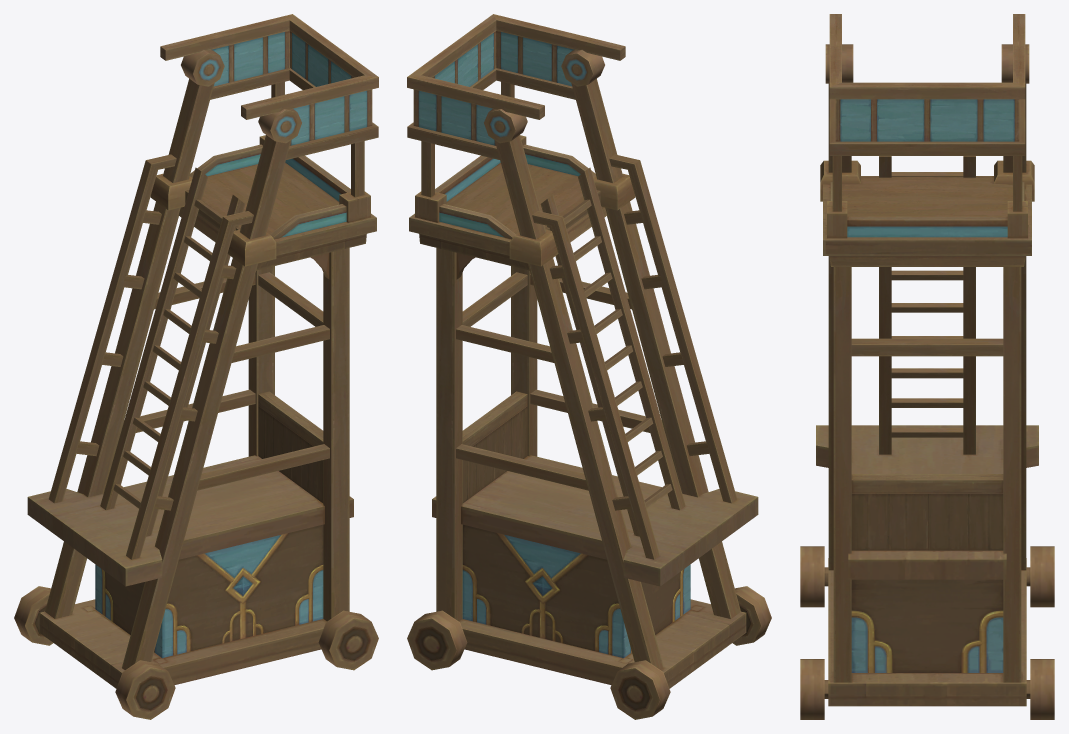
The model's file is Homeworld_Interior_Fd_Decoration_Prop_Tizi_01_Vo.fbx.
3 renders of one model, left to right at view 1: azimuth 30°, elevation 25°; view 2: azimuth 150°, elevation 25°; view 3: azimuth 270°, elevation 25°, orthographic. The views are drawn at different scales.
Parts seen in each view (by area): view 1: Indoor_Fd_Prop_Shelf_A_02_Vo; view 2: Indoor_Fd_Prop_Shelf_A_02_Vo; view 3: Indoor_Fd_Prop_Shelf_A_02_Vo.
Boxes of the visible parts, x1,y1,x2,y2 form: Indoor_Fd_Prop_Shelf_A_02_Vo: (14,14,378,719); Indoor_Fd_Prop_Shelf_A_02_Vo: (407,14,771,719); Indoor_Fd_Prop_Shelf_A_02_Vo: (800,14,1054,719).
Size of the model in its own units: 1.72 by 3.56 by 1.26.
1 material, 1 textured.
